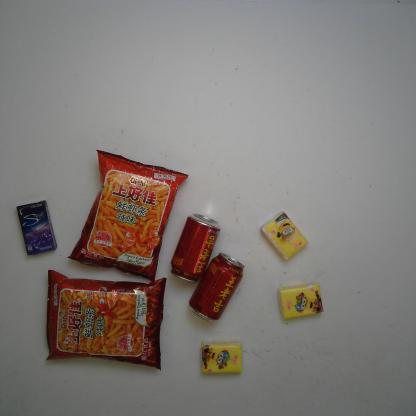Drink: (189, 255, 244, 323), (173, 214, 218, 284)
Gum: (17, 202, 56, 254)
Puffed Food: (69, 150, 186, 280), (43, 268, 167, 370)
Tissue: (264, 210, 306, 262), (278, 284, 323, 317), (200, 341, 242, 375)
